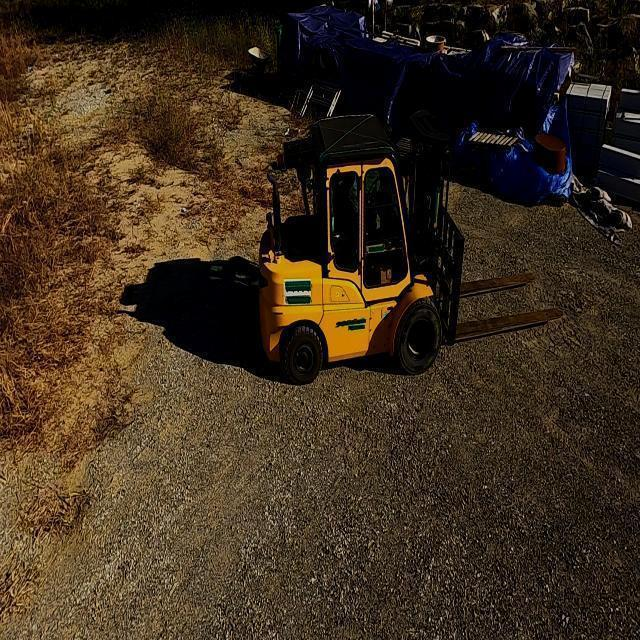forklift: (262, 134, 456, 391)
